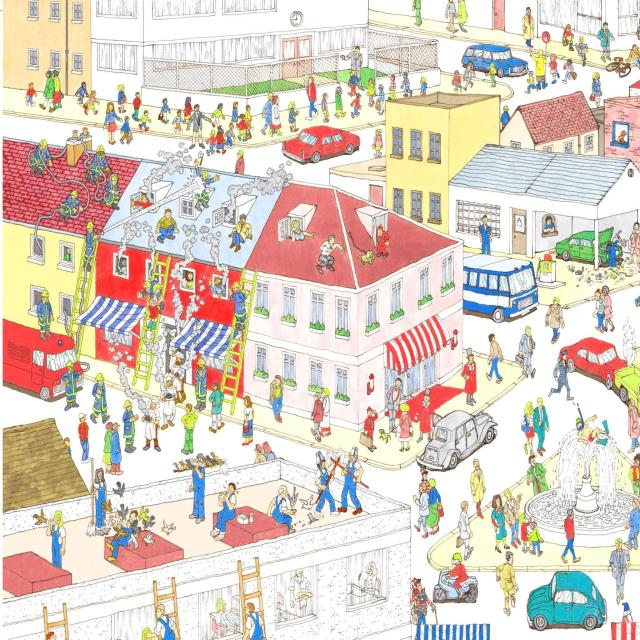waldo: (413, 577, 422, 591)
